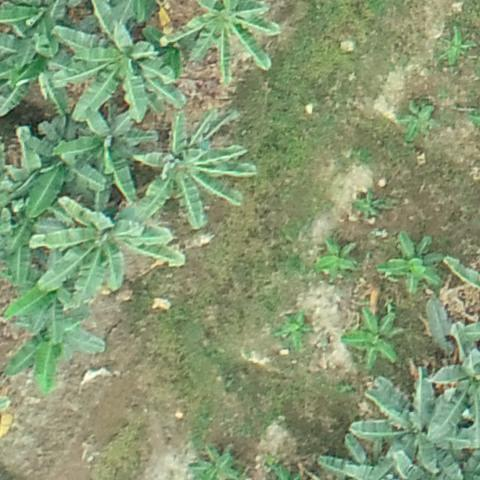Banana-plant: (52, 0, 184, 119), (36, 205, 187, 293), (138, 120, 257, 226), (361, 383, 470, 469), (168, 0, 280, 75), (63, 115, 152, 201), (382, 233, 439, 289), (348, 307, 398, 365), (306, 232, 361, 282), (272, 309, 313, 343)
